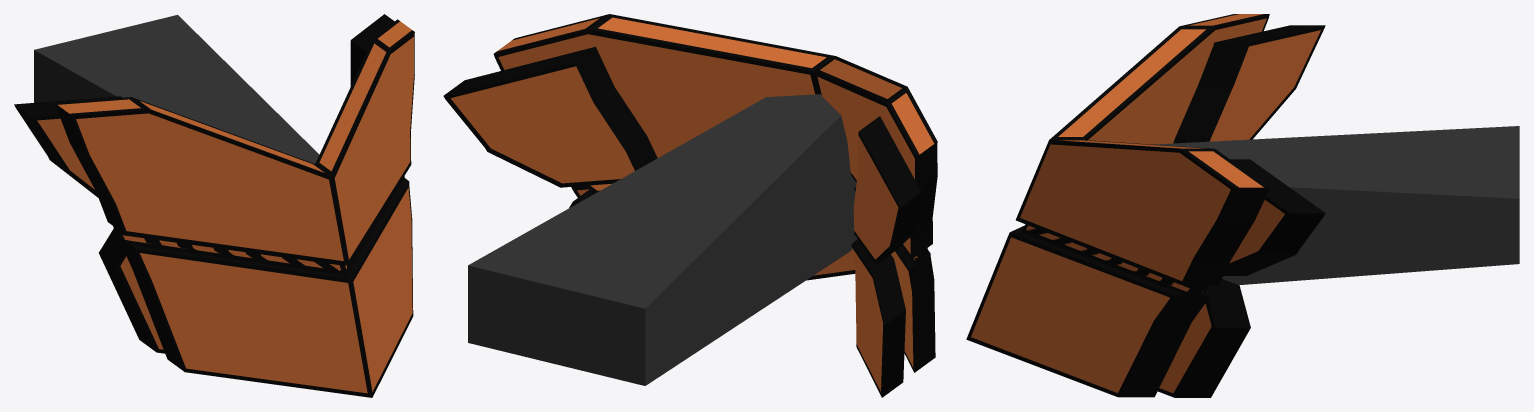
Rendered from OverseerRam.fbx.
3 views of the same model, side by side, from view 1: azimuth 30°, elevation 25°; view 2: azimuth 150°, elevation 25°; view 3: azimuth 270°, elevation 25° (orthographic). The views are drawn at different scales.
Parts seen in each view (by area): view 1: Ram Head, Ram Arm, Ram Right, Ram Left; view 2: Ram Arm, Ram Head, Ram Left, Ram Right; view 3: Ram Head, Ram Arm, Ram Left, Ram Right.
Part boxes in pixels (box(x1,y1,x2,y2)): Ram Head: box(55, 19, 414, 397); Ram Arm: box(34, 15, 319, 163); Ram Right: box(14, 96, 164, 353); Ram Left: box(350, 14, 394, 86); Ram Arm: box(468, 94, 857, 385); Ram Head: box(493, 14, 937, 372); Ram Left: box(443, 46, 657, 207); Ram Right: box(851, 116, 921, 397); Ram Head: box(966, 14, 1269, 397); Ram Arm: box(1153, 126, 1519, 285); Ram Left: box(1158, 159, 1325, 397); Ram Right: box(1173, 25, 1325, 143).
Bounding box in the file's own units: 6.16 × 4.94 × 3.09.
